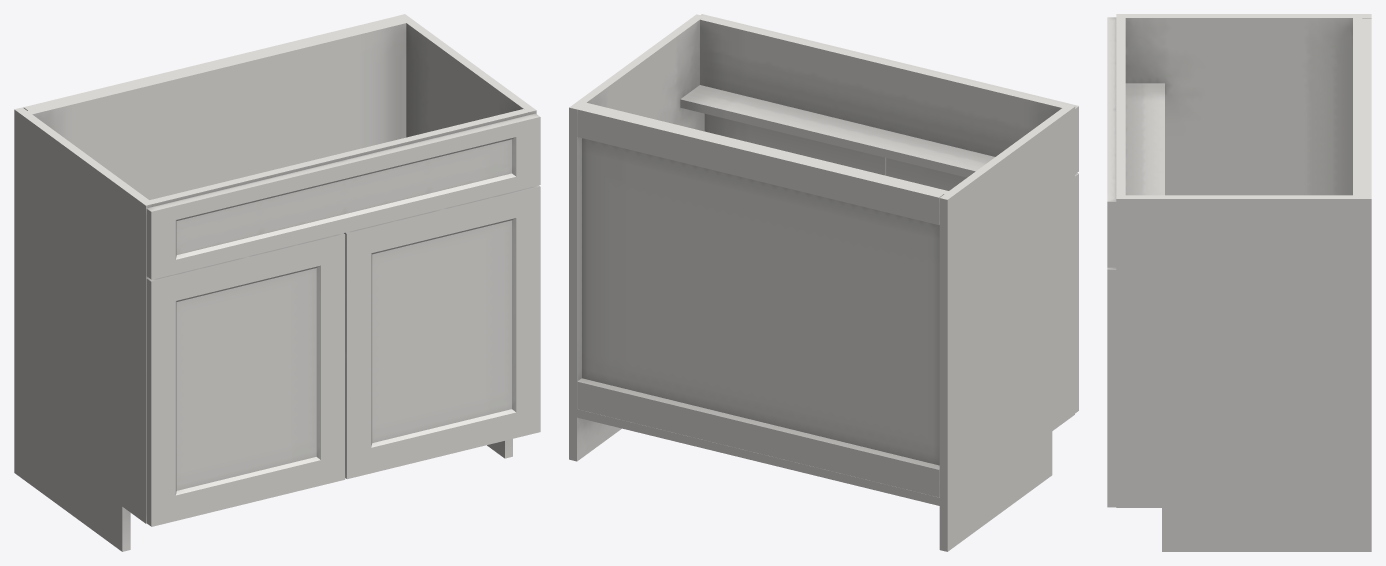
Rendered from vanity-sink-false-drawer-doors-on.glb.
3 renders of one model, left to right at view 1: azimuth 30°, elevation 25°; view 2: azimuth 150°, elevation 25°; view 3: azimuth 270°, elevation 25°, orthographic. The views are drawn at different scales.
Parts seen in each view (by area): view 1: part_3, part_0; view 2: part_0, part_3; view 3: part_0, part_3.
Boxes of the visible parts, box(x1,y1,x2,y2) form: part_3: box(146, 113, 540, 526); part_0: box(14, 14, 536, 551); part_0: box(569, 14, 1074, 551); part_3: box(700, 14, 1078, 413); part_0: box(1116, 14, 1371, 551); part_3: box(1107, 17, 1116, 507).
Size of the model in its own units: 0.9144 by 0.8128 by 0.5525.
Materials: 2 (2 with a texture image).
